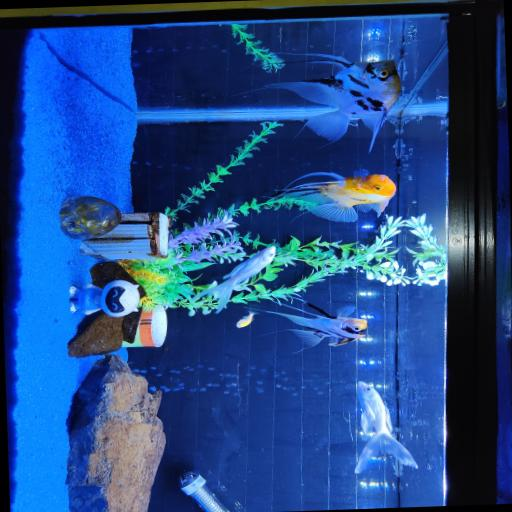Fish: (264, 54, 399, 151), (277, 170, 395, 222), (354, 382, 417, 473), (192, 246, 275, 313), (263, 299, 366, 346), (236, 312, 255, 327)
